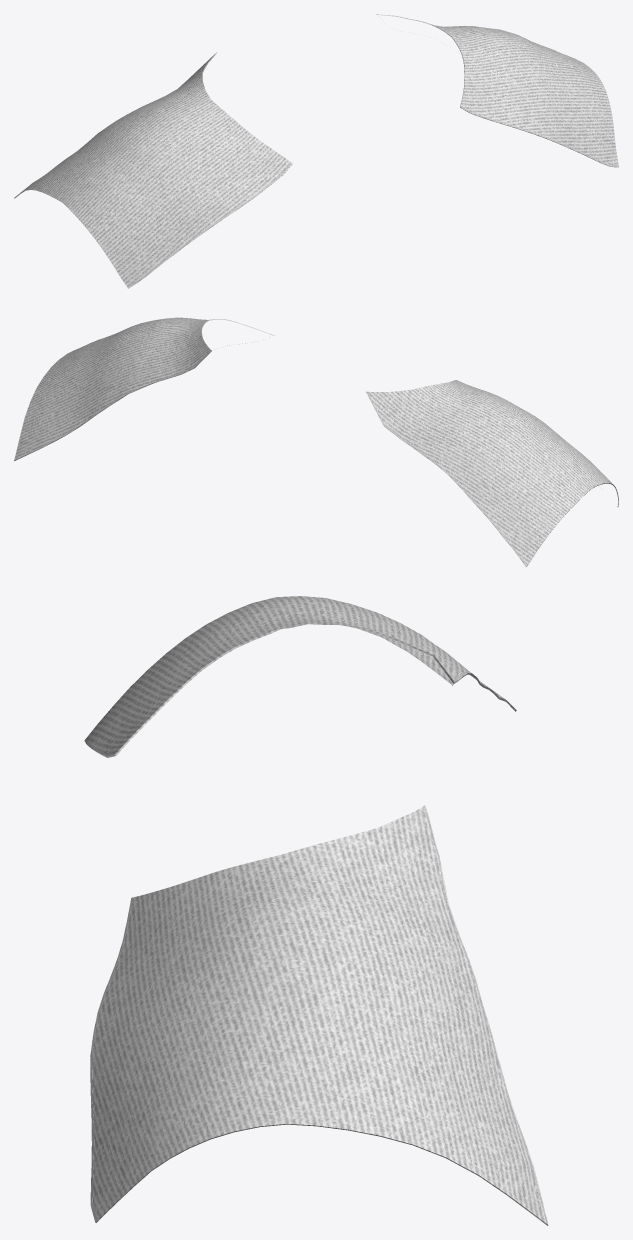
Rendered from Decor_Shoulder.glb.
3 views of the same model, one above another, from view 1: azimuth 30°, elevation 25°; view 2: azimuth 150°, elevation 25°; view 3: azimuth 270°, elevation 25° (orthographic). The views are drawn at different scales.
Parts seen in each view (by area): view 1: Decor_Shoulder1, Rope1; view 2: Decor_Shoulder1, Rope1; view 3: Decor_Shoulder1, Rope1.
Part boxes in pixels (box(x1,y1,x2,y2)): Decor_Shoulder1: box(14, 14, 618, 288); Rope1: box(14, 14, 618, 287); Decor_Shoulder1: box(14, 317, 618, 566); Rope1: box(14, 335, 618, 566); Decor_Shoulder1: box(84, 596, 548, 1225); Rope1: box(85, 654, 547, 1224).
Size of the model in its own units: 0.7027 by 0.1731 by 0.268.
2 materials, 2 textured.
